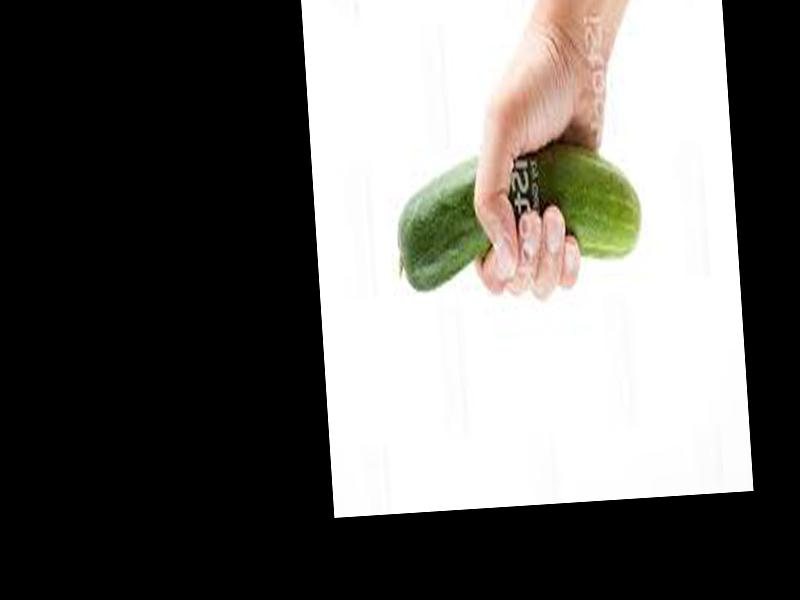Cucumber: (392, 137, 643, 296)
